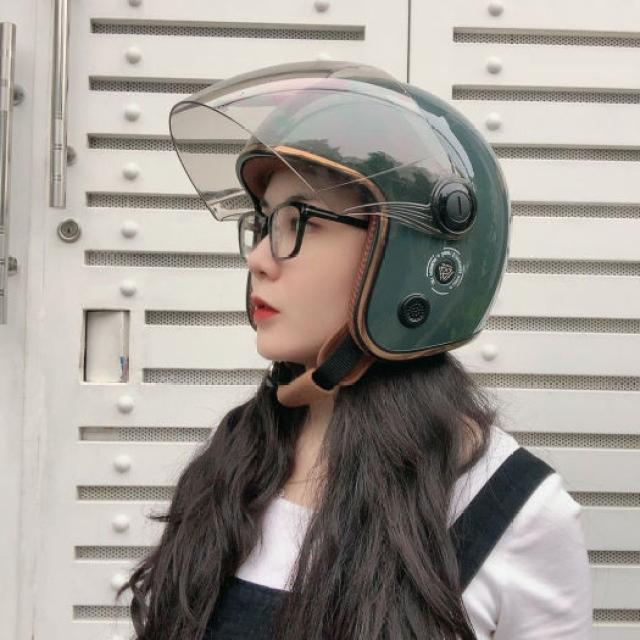3-4-helmet: (166, 59, 517, 370)
